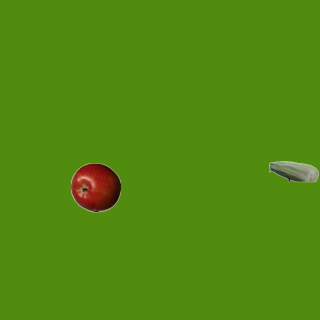Apple Braeburn: (70, 162, 120, 212)
Corn Husk: (268, 146, 318, 196)
